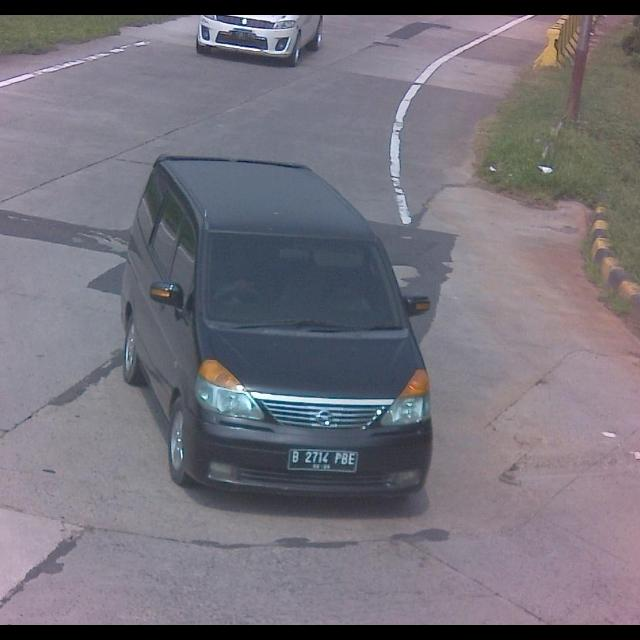plate: (288, 446, 360, 474)
